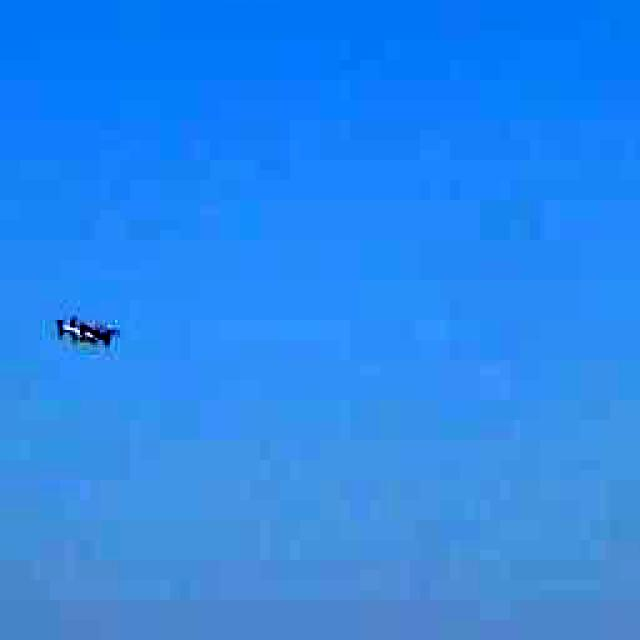bird: (12, 285, 158, 370)
